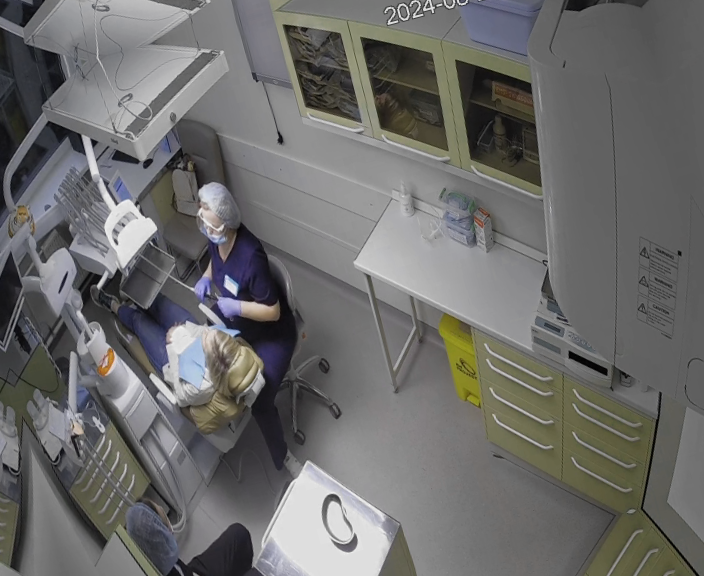Patient: (92, 255, 281, 469)
